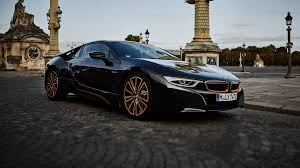car: (43, 39, 245, 120)
